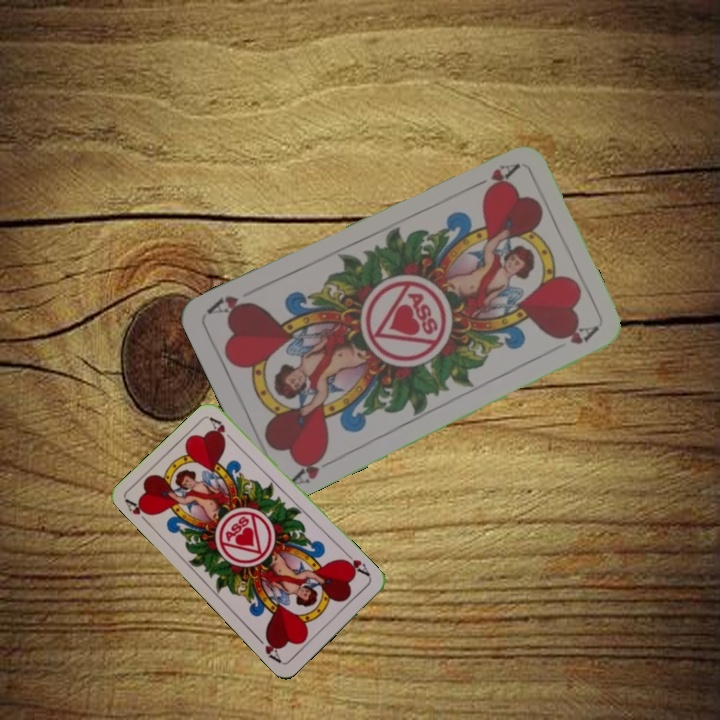HA: (465, 159, 521, 196), (284, 447, 331, 489), (337, 548, 373, 581), (122, 495, 155, 529)
